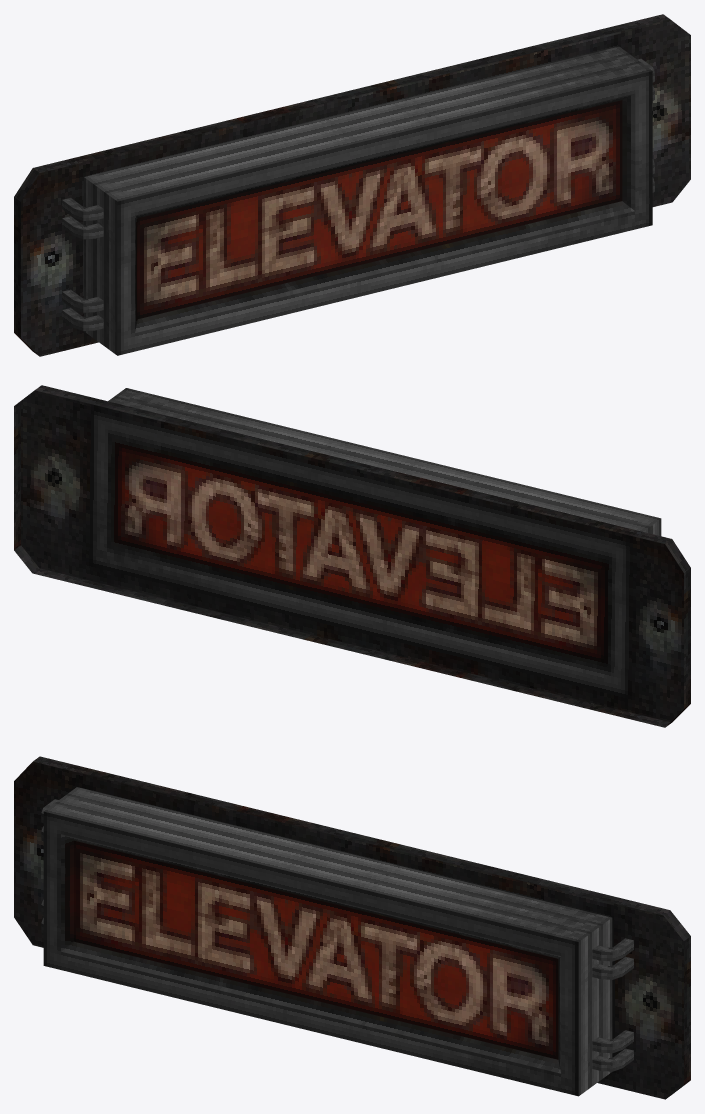
File: elevator_sign_1.glb
3 renders of one model, top to bottom at view 1: azimuth 30°, elevation 25°; view 2: azimuth 150°, elevation 25°; view 3: azimuth 330°, elevation 25°, orthographic.
Visible parts, largest first — view 1: elevator_sign_1; view 2: elevator_sign_1; view 3: elevator_sign_1.
Part boxes in pixels (x1,y1,x2,y2): elevator_sign_1: [14, 14, 690, 356]; elevator_sign_1: [14, 385, 690, 727]; elevator_sign_1: [14, 756, 690, 1099].
Size of the model in its own units: 0.7635 by 0.2 by 0.08.
1 material, 1 textured.
